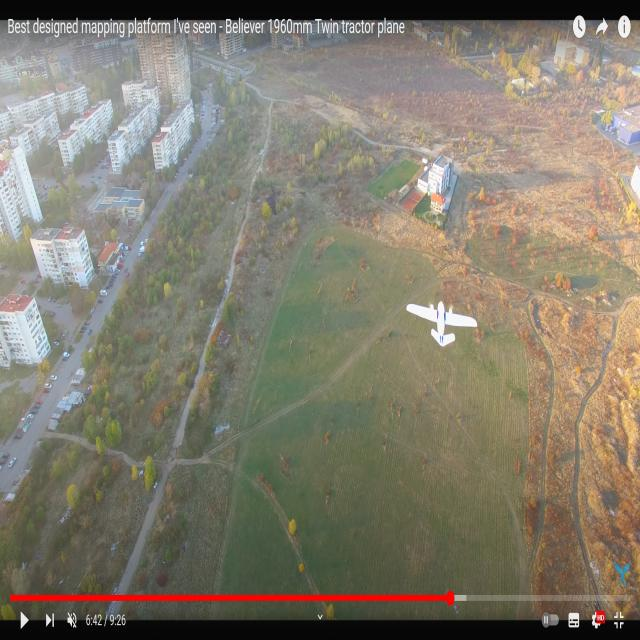iha: (441, 294, 443, 345)
